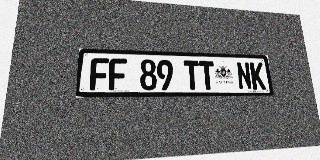8: (140, 59, 157, 90)
9: (157, 60, 174, 90)
F: (89, 58, 109, 90), (108, 58, 127, 90)
K: (249, 62, 266, 90)
N: (236, 62, 252, 90)
T: (183, 60, 200, 90), (199, 61, 216, 90)
